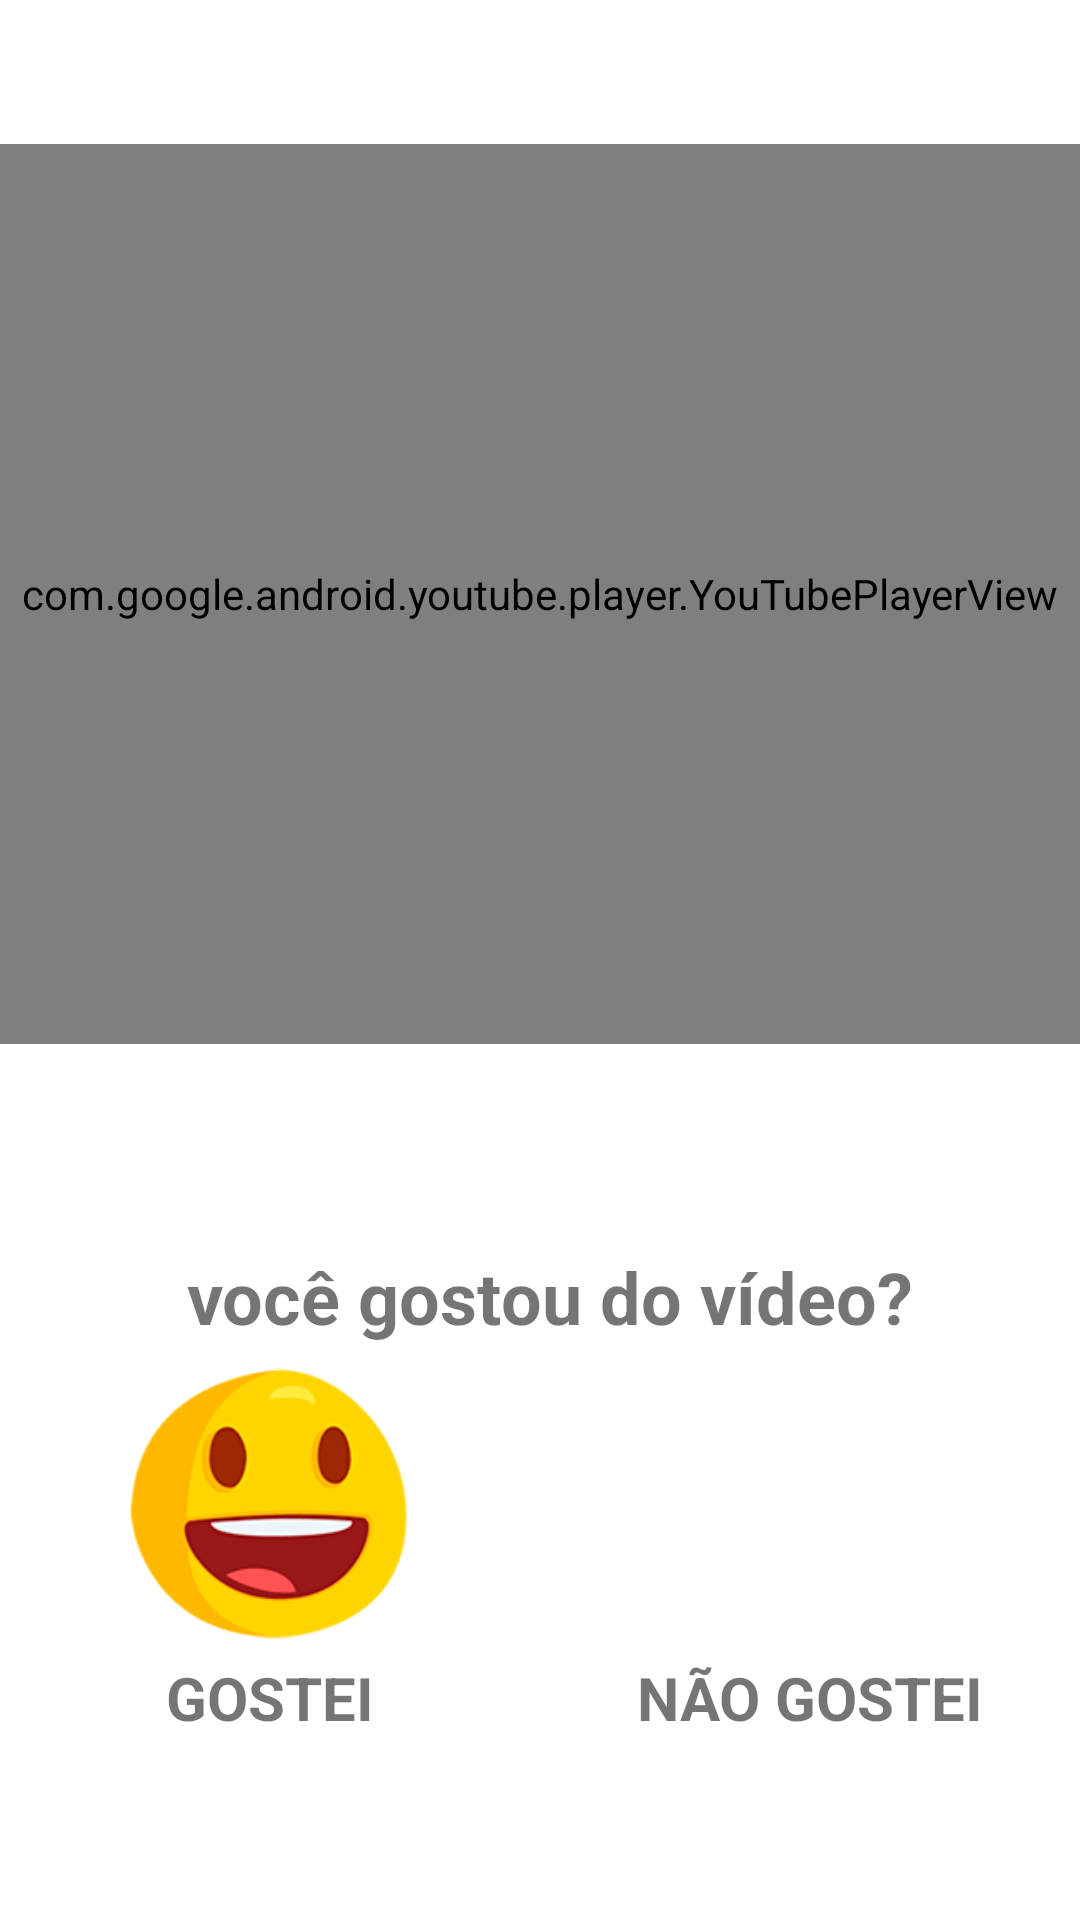

Point at icon controls on the screen. Image size 1080px×1920px, points as (x=x, y=y).
happy: (x=268, y=1503)
